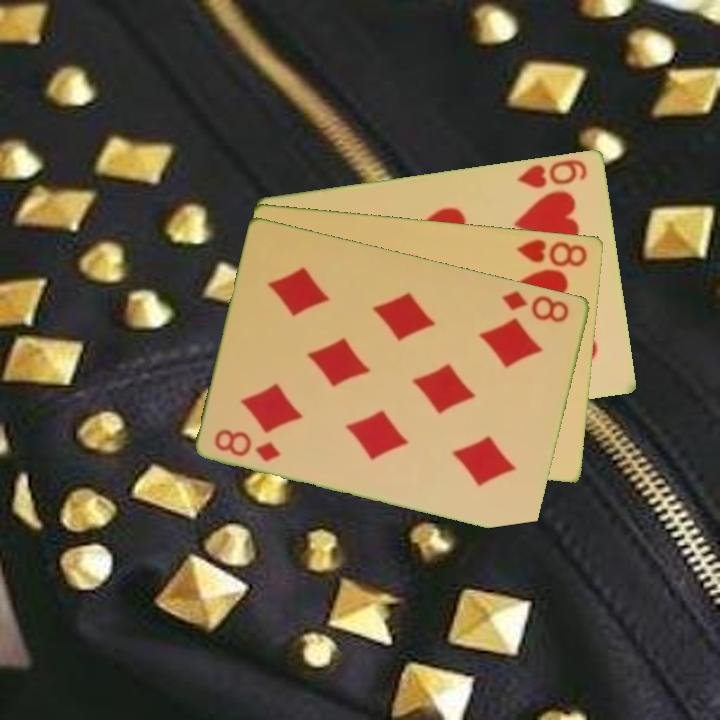6h: (513, 155, 591, 191)
8d: (211, 425, 284, 464), (499, 287, 573, 325)
8h: (513, 235, 591, 269)
